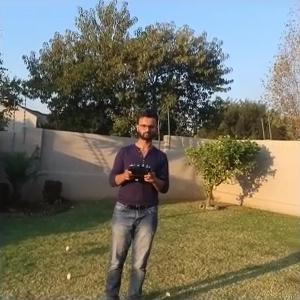follow: (103, 105, 173, 298)
